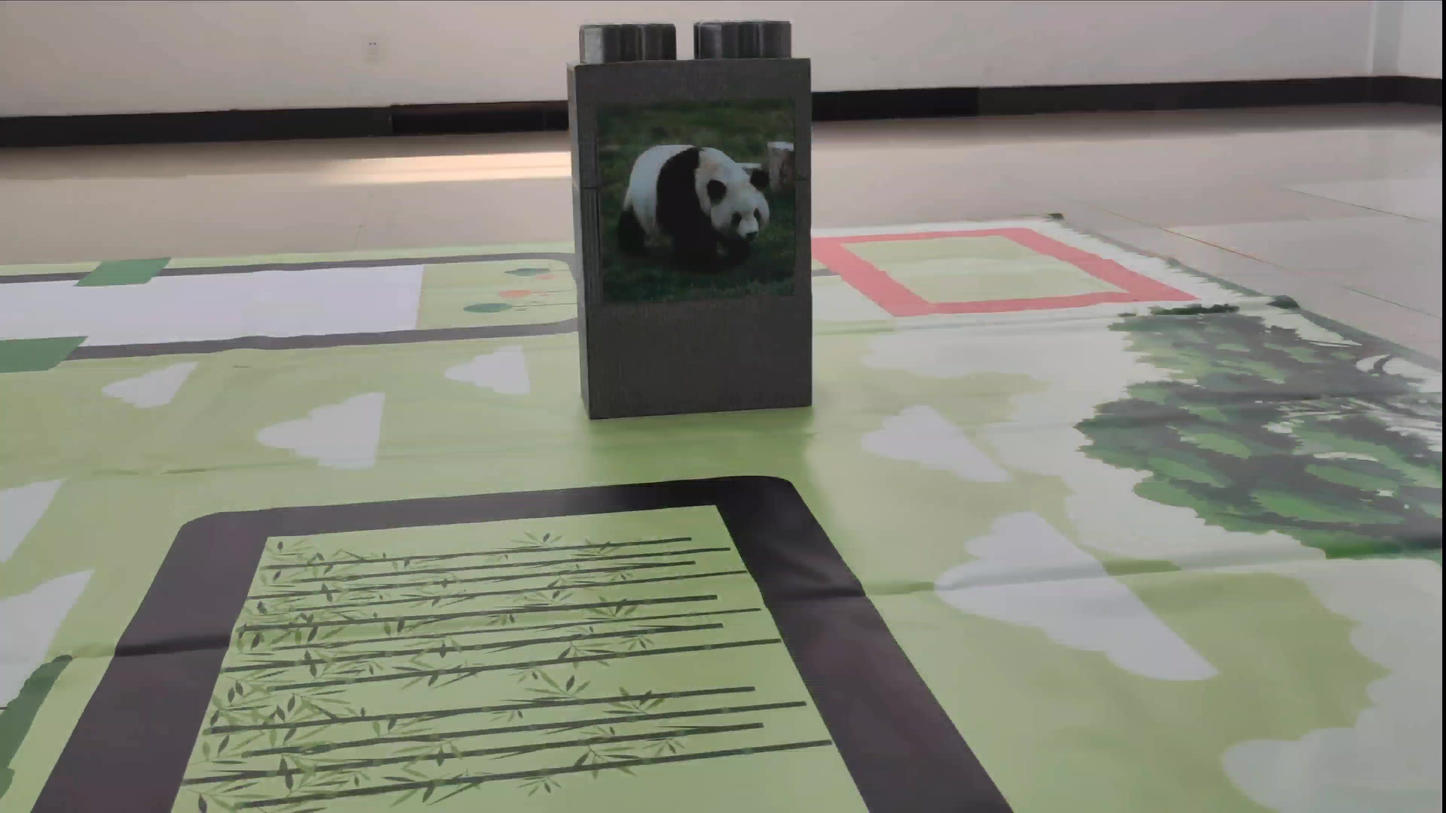panda: (587, 130, 780, 312)
